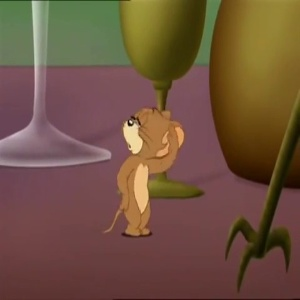Jerry: (120, 102, 185, 163)
